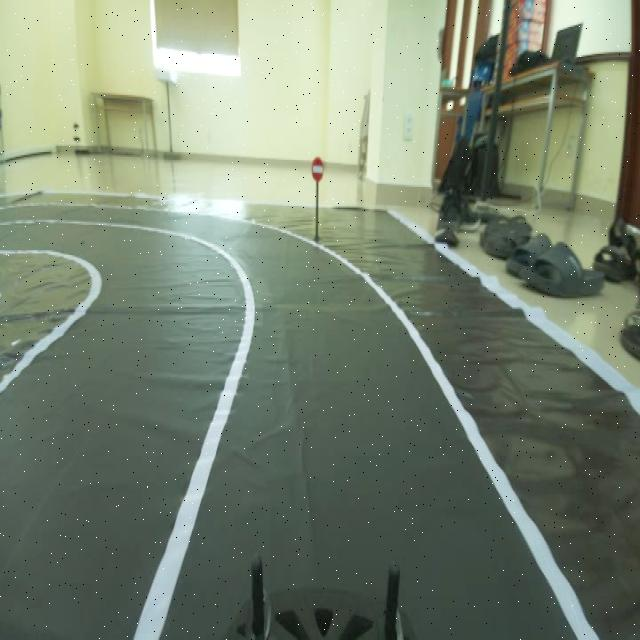no_entry: (308, 149, 326, 185)
